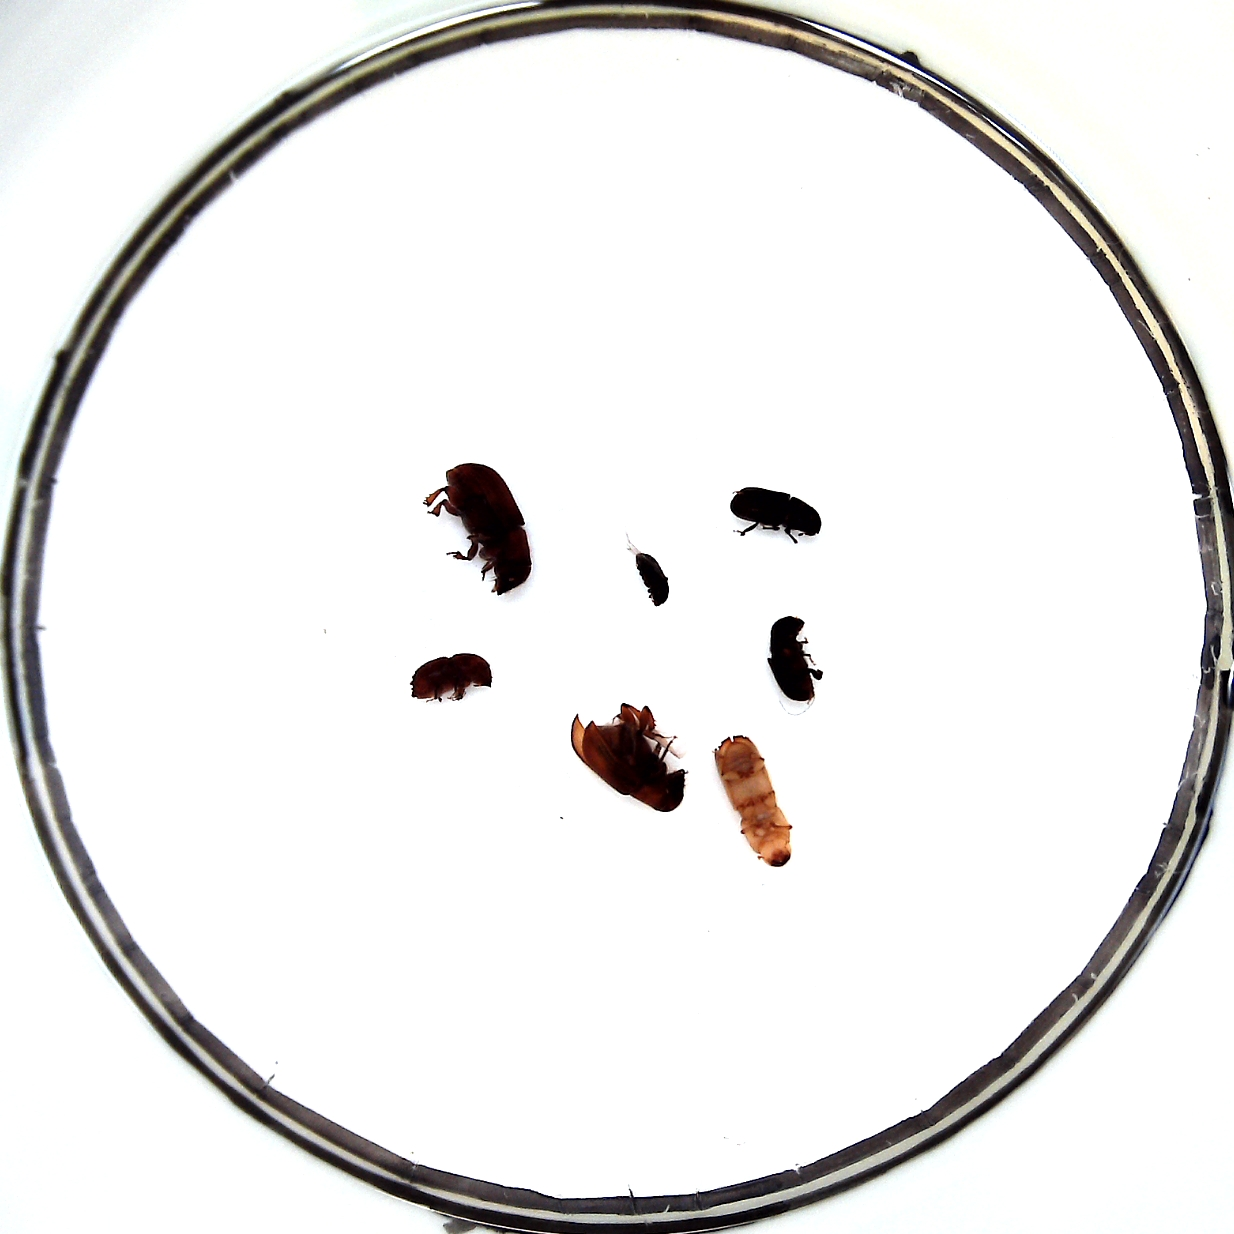Boerner: (713, 735, 793, 868)
Leconte: (570, 703, 685, 812), (445, 462, 532, 596)
armandi: (766, 616, 824, 702), (730, 486, 822, 539)
coleoptera: (635, 551, 670, 607)
linnaeus: (410, 653, 493, 701)
